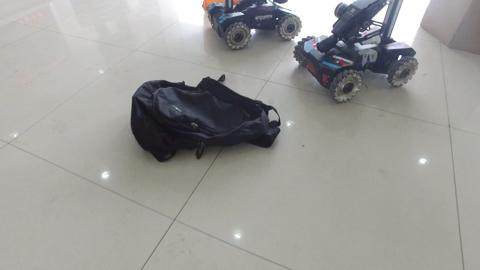bag: (133, 80, 280, 157)
chariot: (296, 1, 417, 102), (207, 1, 300, 48)
